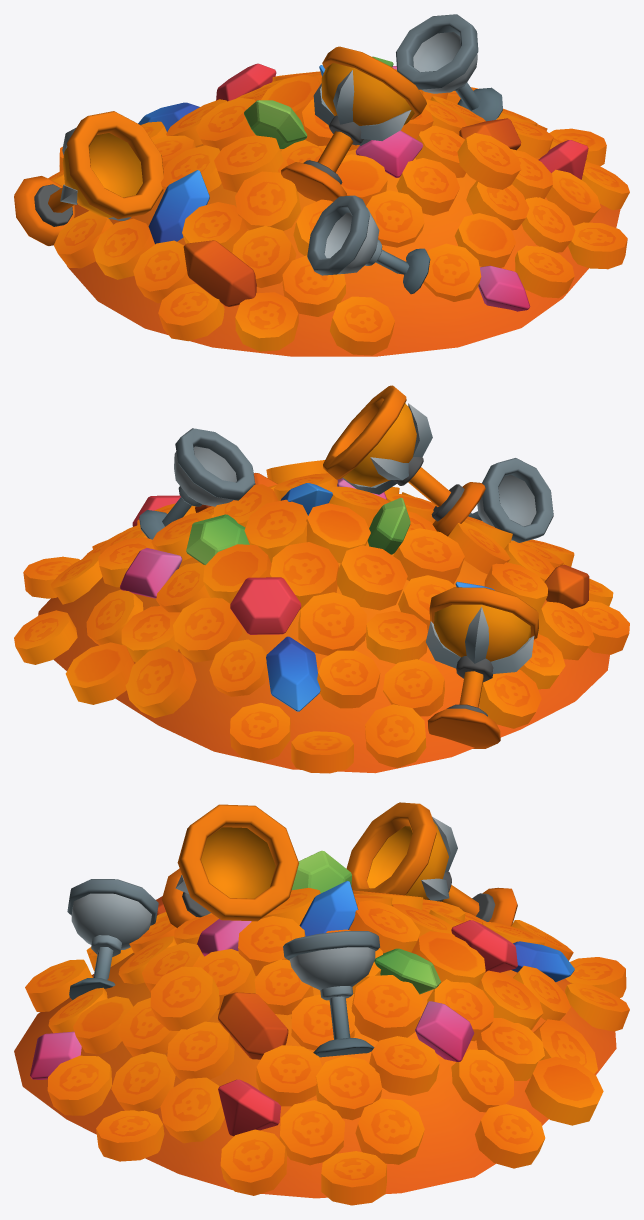
File: inferno-gold-pile-big-001.glb
3 views of the same model, one above another, from view 1: azimuth 30°, elevation 25°; view 2: azimuth 150°, elevation 25°; view 3: azimuth 270°, elevation 25° (orthographic). The views are drawn at different scales.
Parts seen in each view (by area): view 1: GoldPileBig_001; view 2: GoldPileBig_001; view 3: GoldPileBig_001.
Boxes of the visible parts, x1,y1,x2,y2 form: GoldPileBig_001: (14, 14, 629, 356); GoldPileBig_001: (14, 385, 629, 773); GoldPileBig_001: (14, 802, 629, 1205).
Bounding box in the file's own units: 2.87 × 1.19 × 2.67.
Materials: 2 (2 with a texture image).
